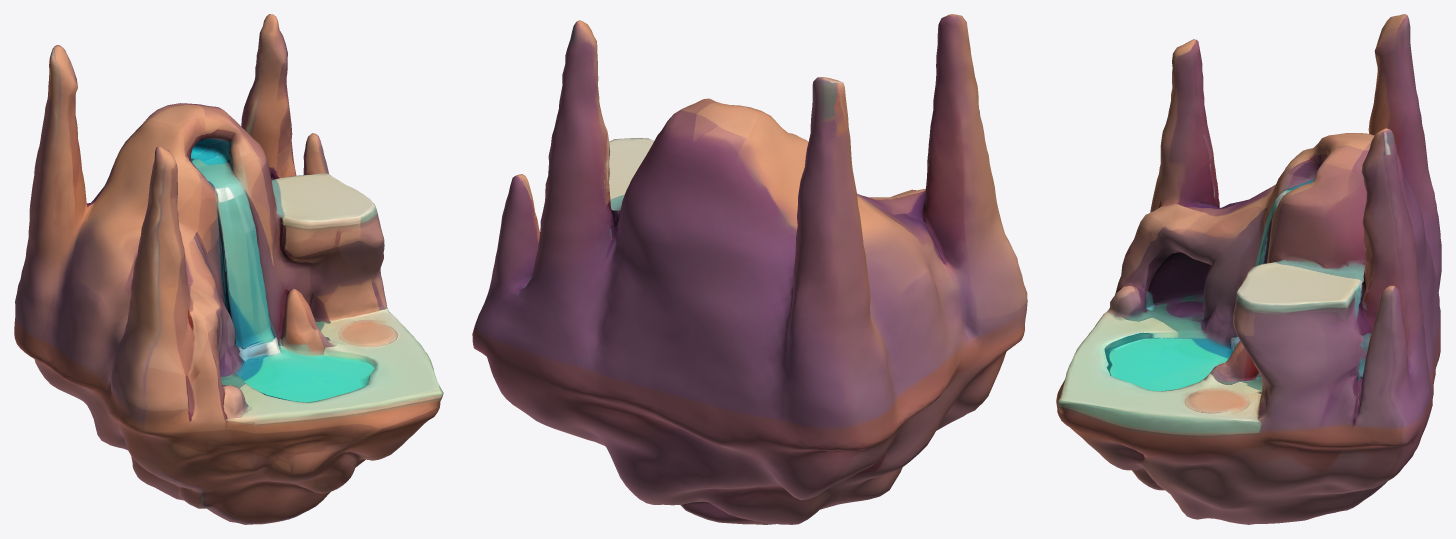
Rendered from Habitat_1.glb.
3 views of the same model, side by side, from view 1: azimuth 30°, elevation 25°; view 2: azimuth 150°, elevation 25°; view 3: azimuth 270°, elevation 25° (orthographic). The views are drawn at different scales.
Bounding box in the file's own units: 1.49 × 1.9 × 1.49.
Materials: 1 (1 with a texture image).
